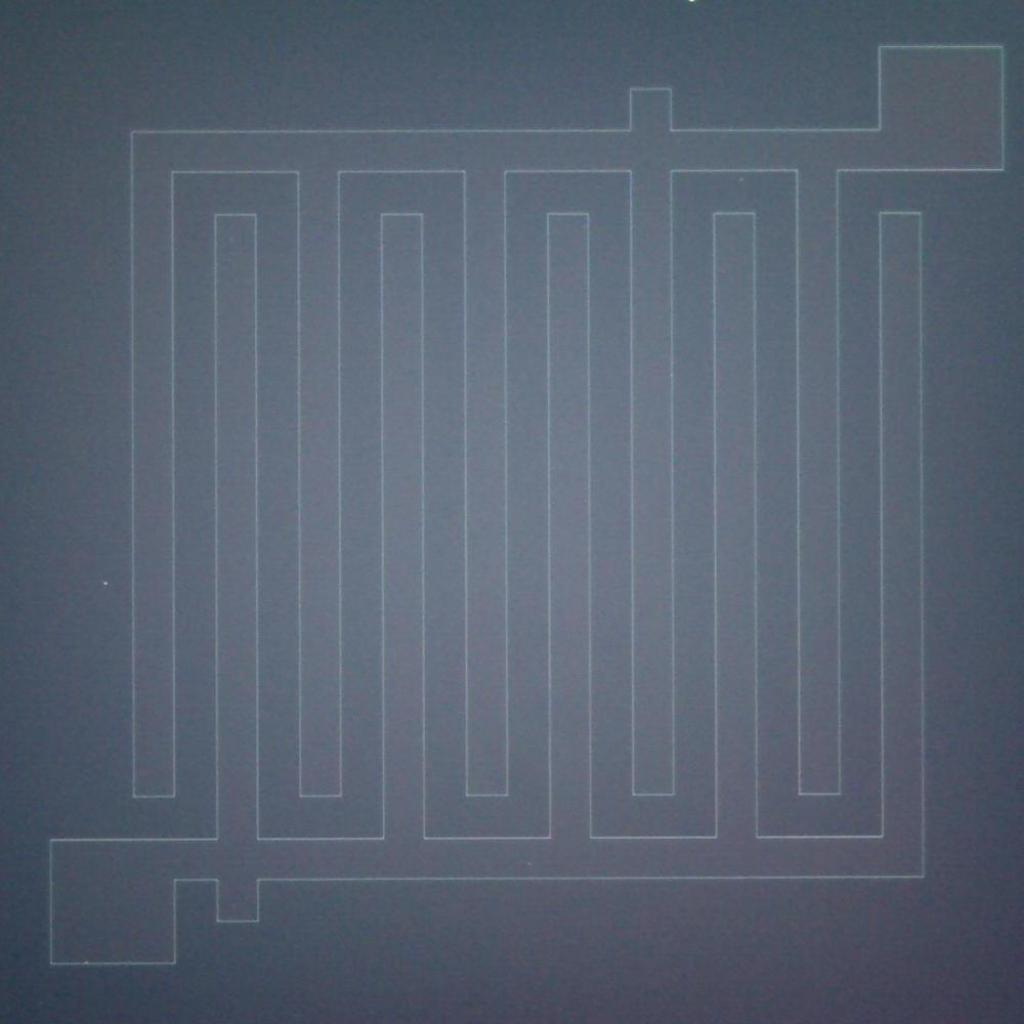budge circuit: (620, 79, 685, 146), (204, 868, 271, 930)
